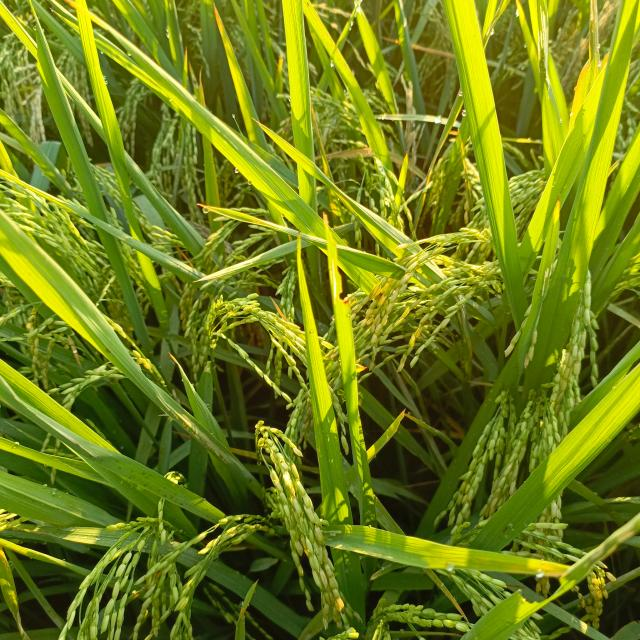Brown spot: (189, 250, 268, 286)
brown plant hopper: (154, 393, 238, 472), (536, 0, 556, 105), (587, 0, 602, 63)
